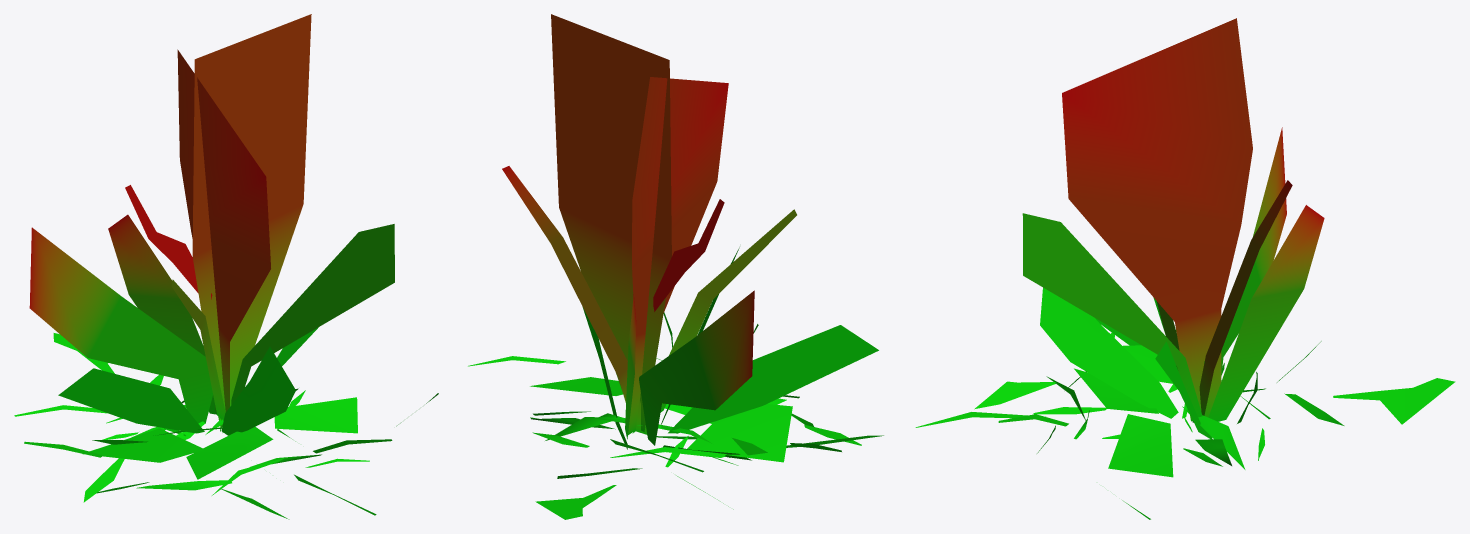
The model's file is Dead Shrubs_LOD2_Var10_vdknafgha.fbx.
The picture shows the model from 3 angles, left to right: view 1: azimuth 30°, elevation 25°; view 2: azimuth 150°, elevation 25°; view 3: azimuth 270°, elevation 25°; orthographic projection. The views are drawn at different scales.
Parts seen in each view (by area): view 1: _hk3e_Var10_LOD2; view 2: _hk3e_Var10_LOD2; view 3: _hk3e_Var10_LOD2.
Part boxes in pixels (x1,y1,x2,y2): _hk3e_Var10_LOD2: (14, 14, 438, 519); _hk3e_Var10_LOD2: (468, 14, 883, 519); _hk3e_Var10_LOD2: (915, 18, 1455, 519).
Bounding box in the file's own units: 26.54 × 26.11 × 29.99.
